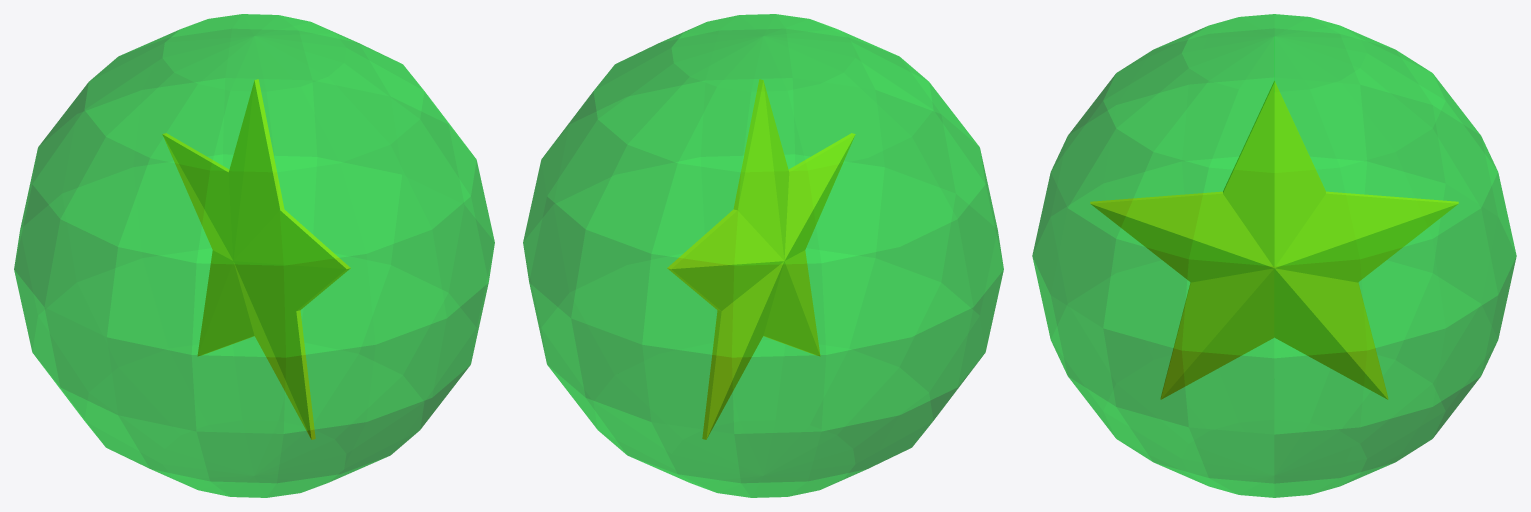
Rendered from StarPointModel.fbx.
3 renders of one model, left to right at view 1: azimuth 30°, elevation 25°; view 2: azimuth 150°, elevation 25°; view 3: azimuth 270°, elevation 25°, orthographic.
Parts seen in each view (by area): view 1: Sphere, Star; view 2: Sphere, Star; view 3: Sphere, Star.
Boxes of the visible parts, <box> form: Sphere: <box>14,14,494,497</box>; Star: <box>162,79,350,439</box>; Sphere: <box>523,14,1003,497</box>; Star: <box>667,79,855,439</box>; Sphere: <box>1032,14,1516,497</box>; Star: <box>1090,81,1458,399</box>.
Size of the model in its own units: 250 by 250 by 250.
